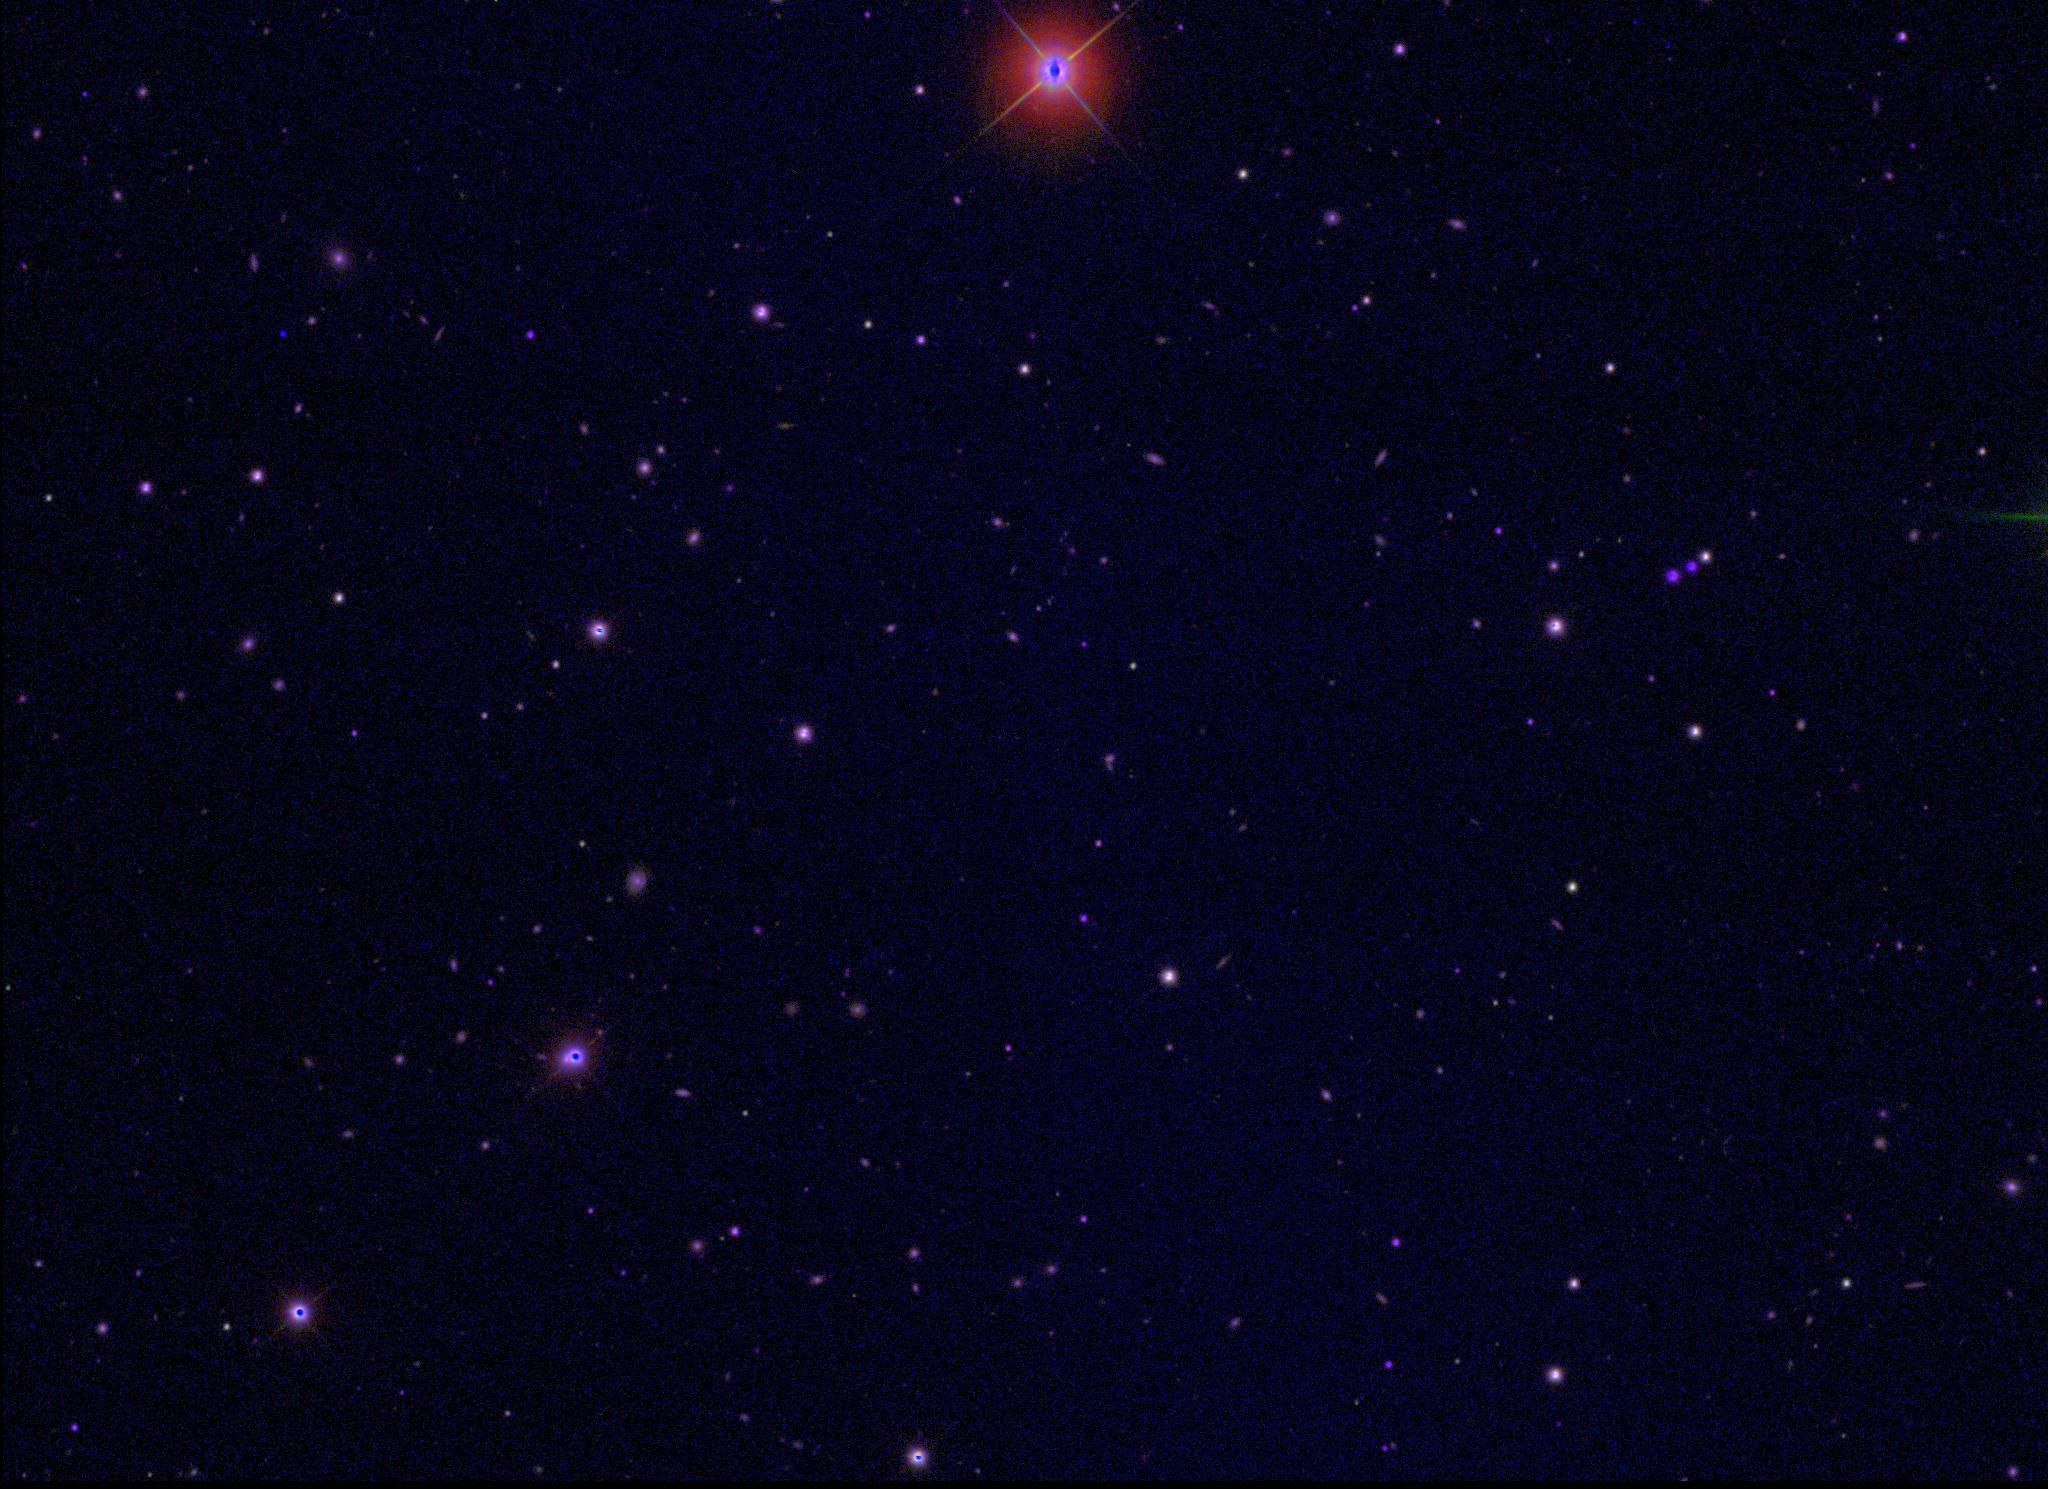L: (277, 329, 289, 344)
